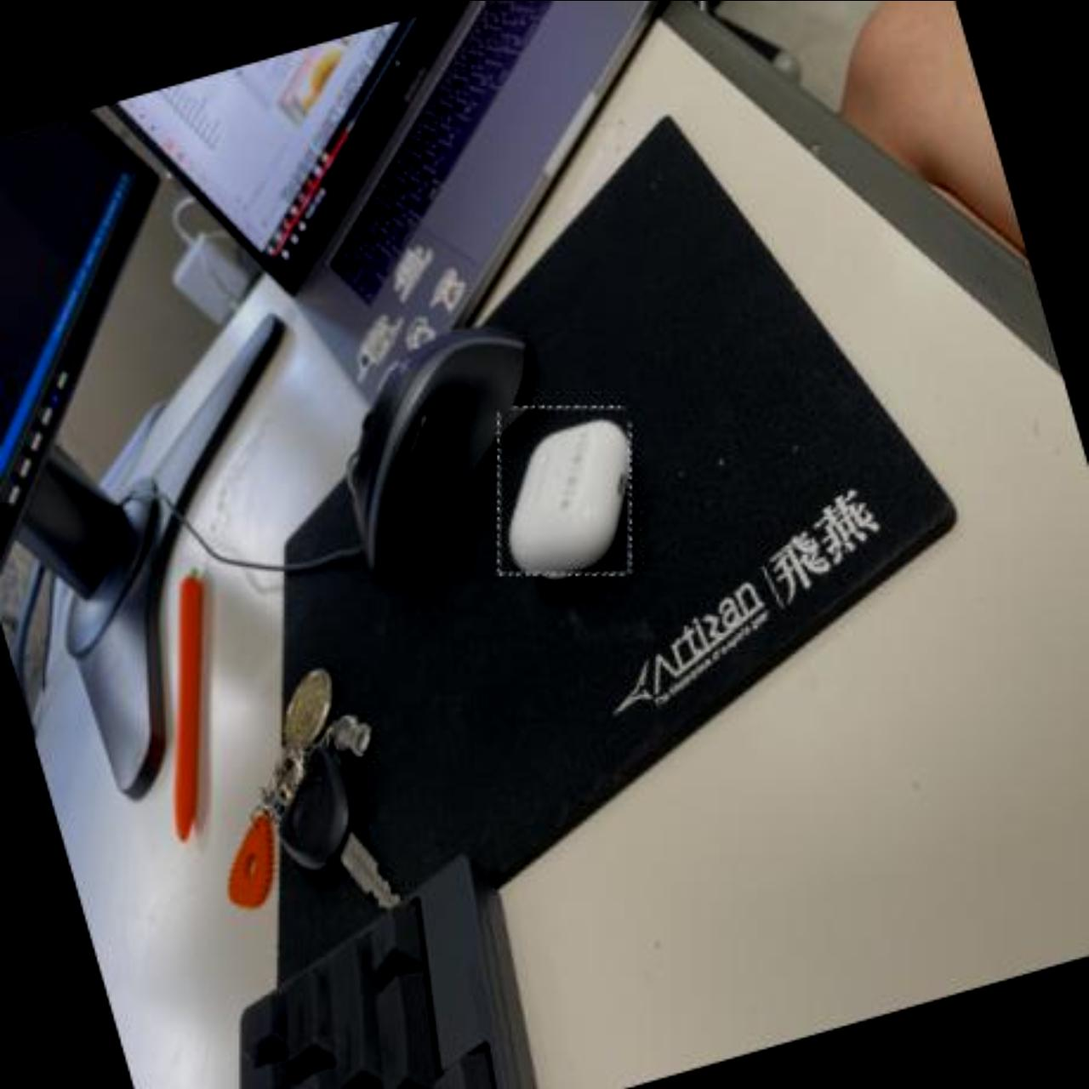AirPods: (468, 382, 662, 597)
